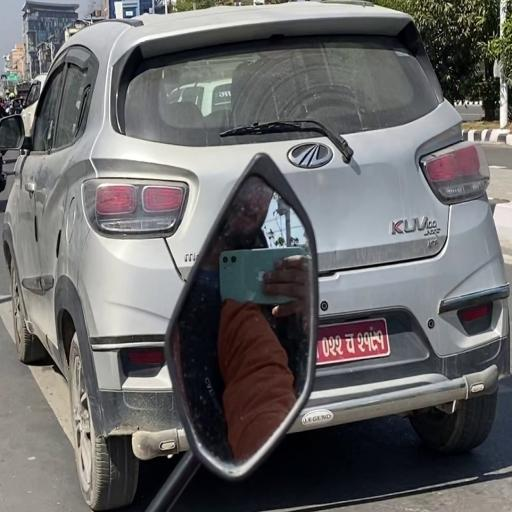license_plate: (315, 314, 392, 365), (317, 318, 390, 365)
